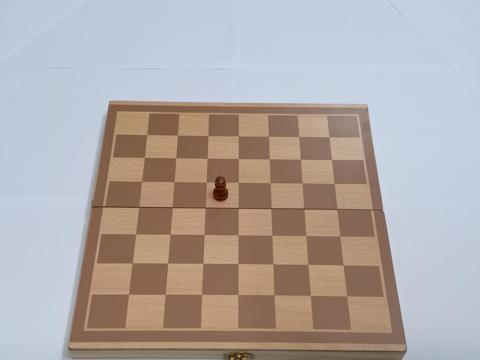xcorner: (128, 259, 138, 269), (171, 154, 181, 164), (332, 205, 342, 215), (335, 232, 345, 242), (143, 131, 152, 141), (140, 154, 150, 163), (137, 178, 147, 187), (131, 231, 141, 240), (125, 290, 134, 300), (173, 132, 183, 141), (170, 178, 179, 188), (163, 260, 173, 269), (161, 290, 170, 300), (203, 132, 213, 141), (200, 231, 209, 241), (198, 260, 208, 269), (197, 291, 207, 300), (234, 204, 243, 214), (234, 231, 243, 241), (234, 260, 243, 270), (233, 291, 243, 300), (264, 132, 273, 142), (266, 179, 275, 189), (270, 291, 279, 301), (294, 133, 304, 142), (296, 155, 305, 165), (298, 179, 307, 189), (324, 133, 334, 142), (135, 204, 144, 213), (168, 204, 177, 213), (166, 231, 175, 240), (203, 155, 212, 164), (202, 179, 211, 188), (201, 204, 210, 213), (234, 132, 243, 141), (234, 155, 243, 164), (234, 179, 243, 188), (265, 155, 274, 164), (267, 205, 276, 214), (268, 232, 277, 241), (269, 261, 278, 270), (300, 205, 309, 214), (302, 232, 311, 241), (304, 261, 313, 270), (306, 292, 315, 301), (327, 156, 336, 165), (330, 180, 339, 189), (339, 261, 348, 270), (342, 292, 351, 301)
